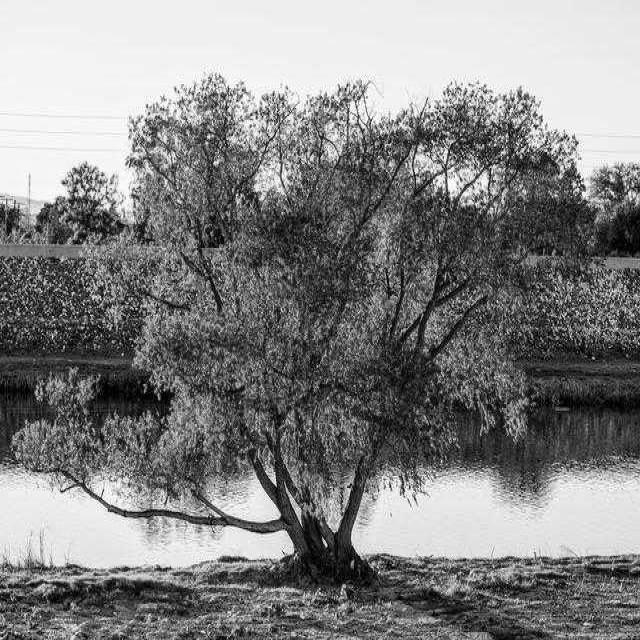Tree: (12, 75, 586, 581)
